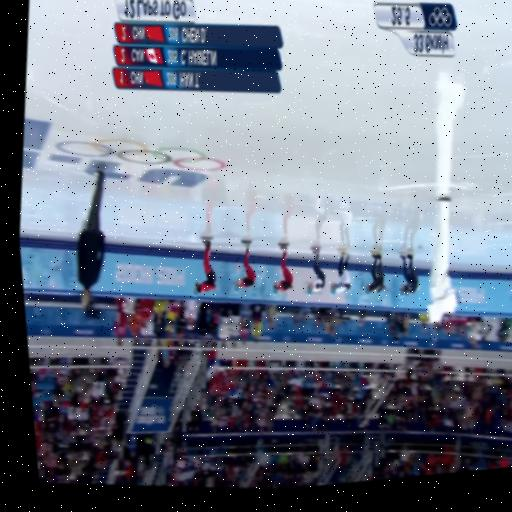Skater: (427, 196, 458, 322), (193, 236, 216, 295), (234, 239, 255, 292), (272, 242, 293, 294), (330, 248, 350, 294), (399, 252, 419, 297), (307, 246, 325, 295), (365, 251, 385, 293)
